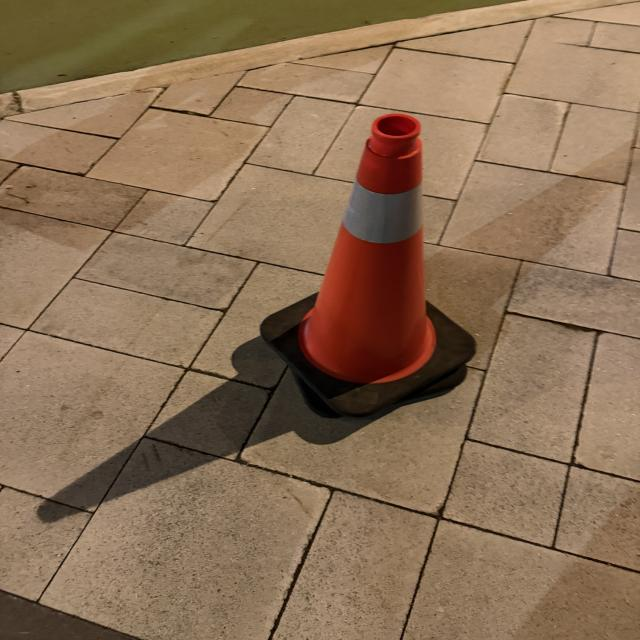Traffic Cone: (259, 110, 478, 420)
